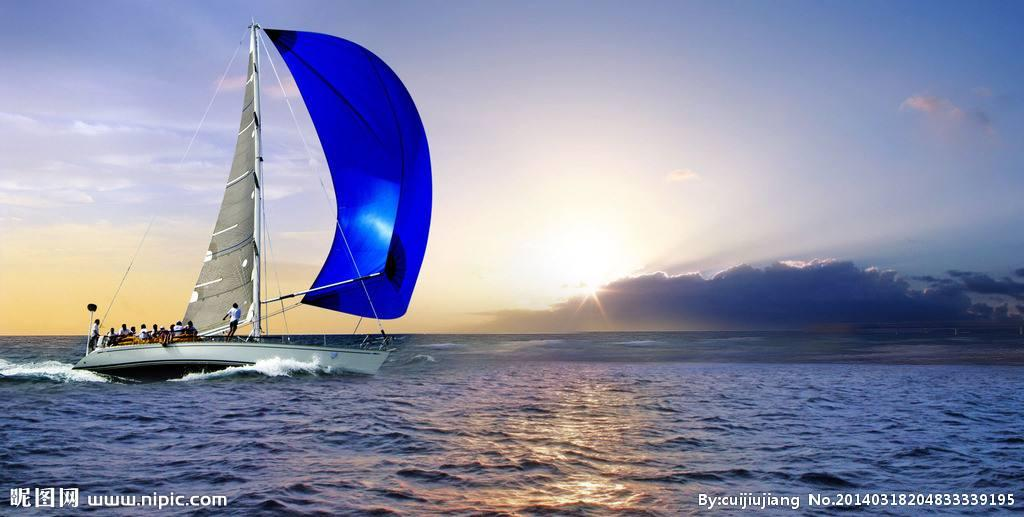fanchuan: (73, 11, 437, 381)
